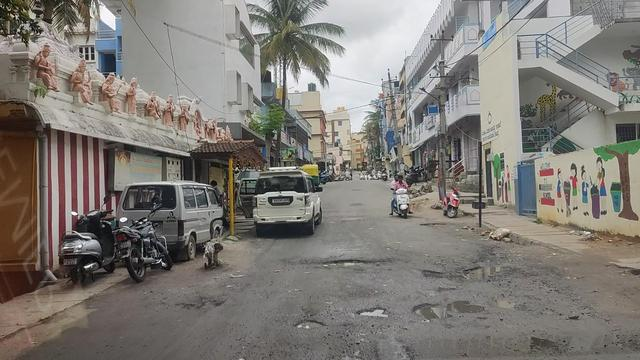LMV: (391, 176, 412, 212)
RoadDamages: (487, 332, 577, 354), (415, 260, 504, 280), (308, 245, 380, 269), (407, 297, 477, 318), (367, 327, 411, 360), (500, 286, 540, 320), (360, 299, 387, 321), (294, 316, 323, 329)
